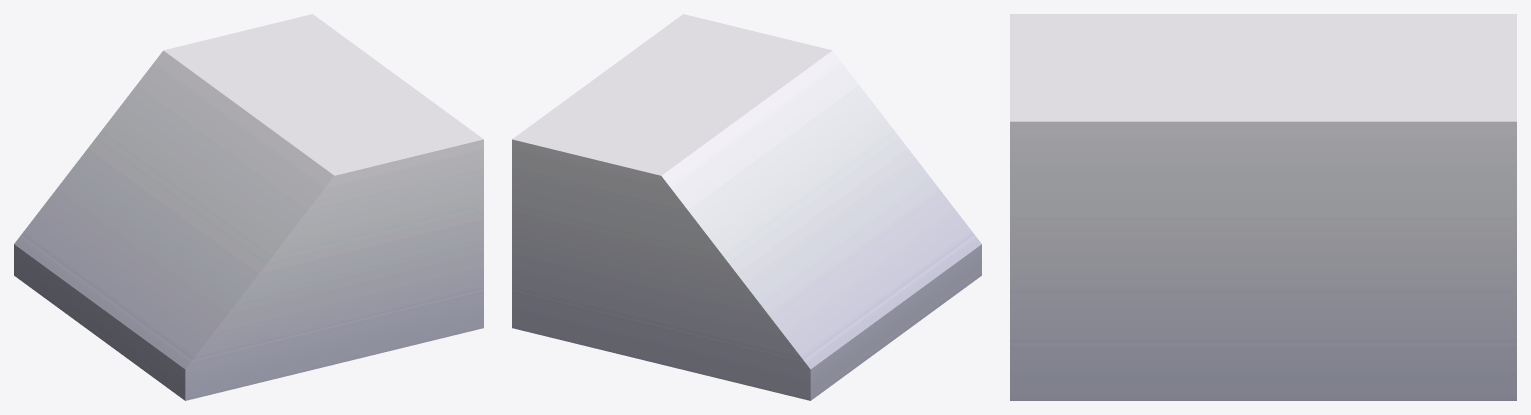
File: none-lq-brick-slope-2x2.glb
3 renders of one model, left to right at view 1: azimuth 30°, elevation 25°; view 2: azimuth 150°, elevation 25°; view 3: azimuth 270°, elevation 25°, orthographic. The views are drawn at different scales.
Visible parts, largest first — view 1: none-lq-brick-slope-2x2; view 2: none-lq-brick-slope-2x2; view 3: none-lq-brick-slope-2x2.
Part boxes in pixels (x1,y1,x2,y2): none-lq-brick-slope-2x2: (14,14,483,400); none-lq-brick-slope-2x2: (512,14,981,400); none-lq-brick-slope-2x2: (1010,14,1516,400).
Size of the model in its own units: 0.159 by 0.096 by 0.158.
1 material, 1 textured.
